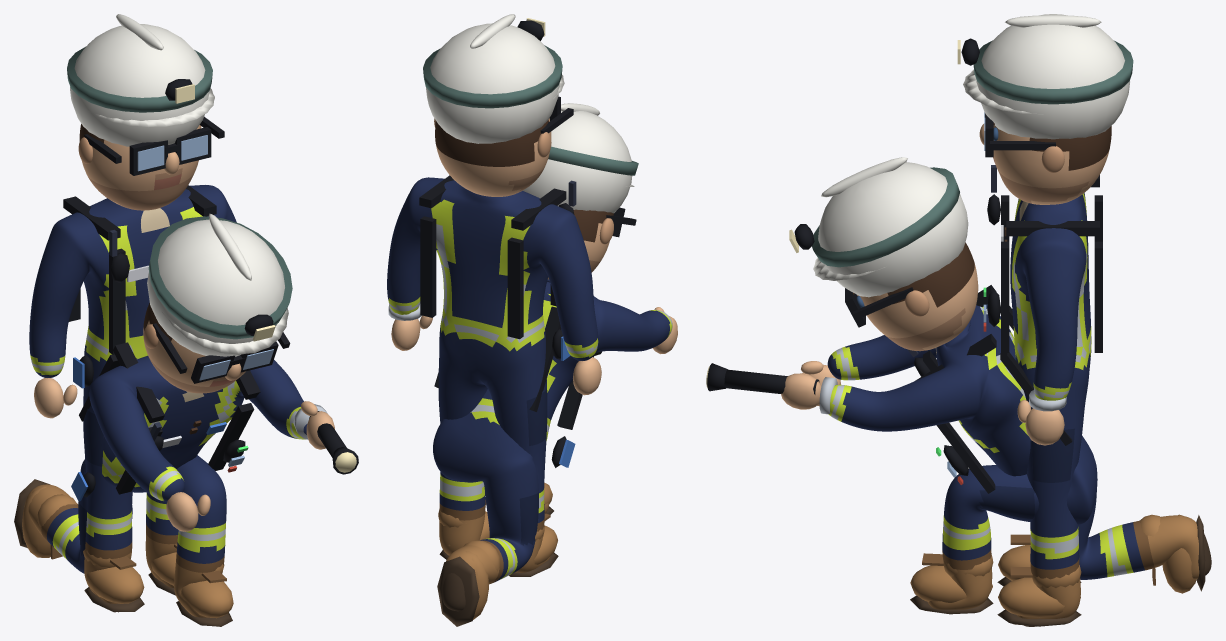
The model's file is calen.glb.
The picture shows the model from 3 angles, left to right: view 1: azimuth 30°, elevation 25°; view 2: azimuth 150°, elevation 25°; view 3: azimuth 270°, elevation 25°; orthographic projection. The views are drawn at different scales.
Parts seen in each view (by area): view 1: calen_body.001, calen_body, hat.001, hat, calen_head, strap.007, strap, calen_head.001, boot, boot.006, strap.001, calen_handR.001 (+22 smaller); view 2: calen_body, calen_body.001, hat, hat.001, calen_head, strap, strap.002, strap.005, sole.002, calen_head.001, strap.007, calen_handL (+8 smaller); view 3: calen_body.001, calen_body, hat, hat.001, calen_head.001, calen_head, strap, strap.007, boot.002, boot.006, calen_handL.001, calen_handL (+9 smaller).
Boxes of the visible parts, box(x1,y1,x2,y2) form: calen_body.001: box(24, 355, 307, 617); calen_body: box(29, 185, 236, 612); hat.001: box(147, 219, 284, 356); hat: box(70, 24, 209, 146); calen_head: box(79, 124, 199, 210); strap.007: box(148, 216, 292, 339); strap: box(67, 46, 212, 112); calen_head.001: box(143, 303, 245, 393); boot: box(85, 566, 144, 603); boot.006: box(181, 580, 233, 618); strap.001: box(109, 248, 125, 354); calen_handR.001: box(166, 492, 210, 531); calen_body: box(387, 177, 598, 572); calen_body.001: box(433, 279, 672, 611); hat: box(426, 23, 559, 143); hat.001: box(523, 111, 632, 213); calen_head: box(435, 118, 551, 196); strap: box(423, 45, 562, 108); strap.002: box(507, 237, 523, 339); strap.005: box(420, 216, 436, 317); sole.002: box(437, 556, 479, 626); calen_head.001: box(548, 209, 613, 279); strap.007: box(548, 146, 638, 175); calen_handL: box(391, 315, 432, 350); calen_body.001: box(827, 304, 1211, 609); calen_body: box(1010, 193, 1091, 626); hat: box(976, 14, 1129, 139); hat.001: box(818, 162, 968, 297); calen_head.001: box(857, 242, 978, 351); calen_head: box(993, 125, 1111, 204); strap: box(973, 40, 1133, 104); strap.007: box(812, 167, 959, 267); boot.002: box(998, 577, 1080, 617); boot.006: box(910, 565, 992, 602); calen_handL.001: box(781, 361, 823, 409); calen_handL: box(1017, 400, 1064, 445).
Bounding box in the file's own units: 0.945 × 2.38 × 1.84.
